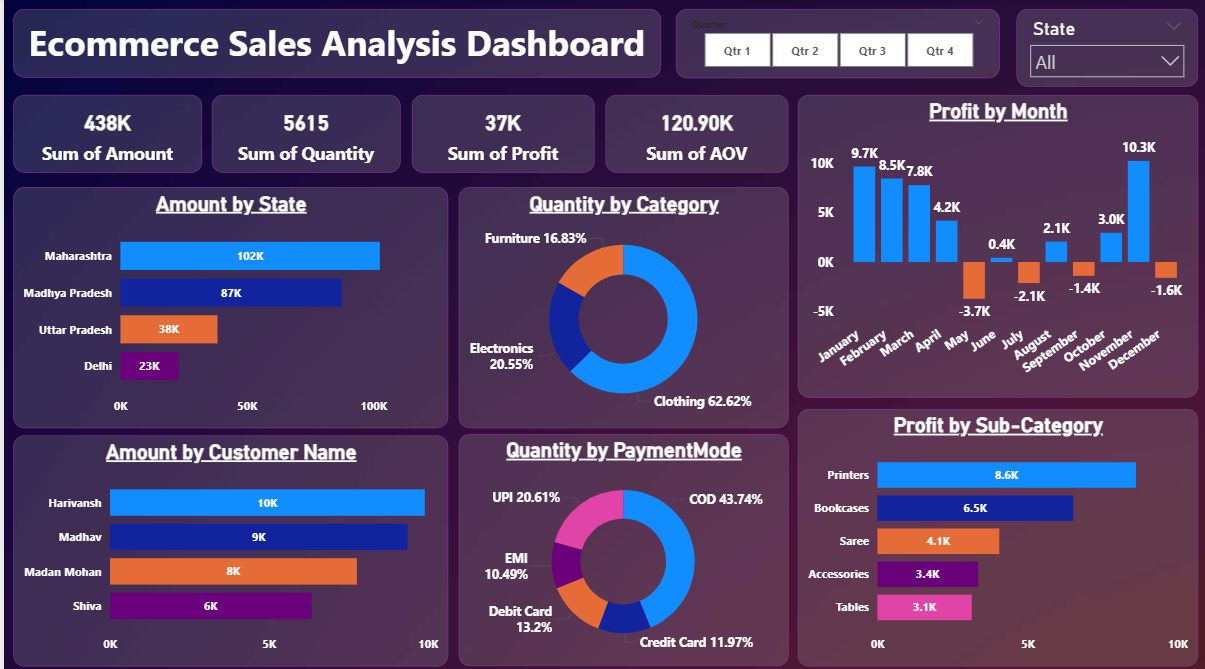

What the dashboard file says about the page in this screenshot:
{"tool":"powerbi","page":{"name":"Page 1","canvas":[1280,720],"ordinal":0},"visuals":[{"type":"textbox","box":[9.5,11.1,687.1,73.2],"z":0},{"type":"columnChart","title":" Profit by Month","fields":{"Category":["Orders.Order Date.Variation.Date Hierarchy.Month"],"Y":["Sum(Details.Profit)"]},"box":[843,103.4,424.7,321.3],"z":1000},{"type":"barChart","title":" Profit by Sub-Category ","fields":{"Category":["Details.Sub-Category"],"Y":["Sum(Details.Profit)"],"Series":["Details.Sub-Category"]},"box":[843,435.8,424.7,273.6],"z":2000},{"type":"donutChart","title":" Quantity by Category","fields":{"Series":["Details.Category"],"Y":["Sum(Details.Quantity)"]},"box":[482,200.4,349.9,256.1],"z":3000},{"type":"donutChart","title":" Quantity by PaymentMode","fields":{"Y":["Sum(Details.Quantity)"],"Series":["Details.PaymentMode"]},"box":[482,462.9,349.9,246.5],"z":4000},{"type":"card","fields":{"Values":["Sum(Details.Amount)"]},"box":[9.5,103.4,200.4,82.7],"z":5000},{"type":"card","fields":{"Values":["Sum(Details.Quantity)"]},"box":[221.1,103.4,200.4,82.7],"z":6000},{"type":"card","fields":{"Values":["Sum(Details.Profit)"]},"box":[432.6,103.4,194.1,82.7],"z":7000},{"type":"card","fields":{"Values":["Sum(Details.AOV)"]},"box":[637.8,103.4,194.1,82.7],"z":8000},{"type":"barChart","title":" Amount by State ","fields":{"Category":["Orders.State"],"Y":["Sum(Details.Amount)"],"Series":["Orders.State"]},"box":[9.5,200.4,461.3,256.1],"z":9000},{"type":"barChart","title":" Amount by Customer Name ","fields":{"Y":["Sum(Details.Amount)"],"Category":["Orders.CustomerName"],"Series":["Orders.CustomerName"]},"box":[9.5,464.5,461.3,245],"z":10000},{"type":"slicer","fields":{"Values":["Orders.Order Date.Variation.Date Hierarchy.Quarter"]},"box":[712.4,11.3,343.9,73.7],"z":11000},{"type":"slicer","fields":{"Values":["Orders.State"]},"box":[1075.3,11.1,192.5,82.7],"z":12000}]}

Visuals, with their boxes in screenshot pixels (x1, y1, x2, y2), scaled from the page's 1280x720 canvas onto the 1205x669 screenshot:
textbox: {"x1": 9, "y1": 10, "x2": 656, "y2": 78}
" Profit by Month" columnChart: {"x1": 794, "y1": 96, "x2": 1193, "y2": 395}
" Profit by Sub-Category " barChart: {"x1": 794, "y1": 405, "x2": 1193, "y2": 659}
" Quantity by Category" donutChart: {"x1": 454, "y1": 186, "x2": 783, "y2": 424}
" Quantity by PaymentMode" donutChart: {"x1": 454, "y1": 430, "x2": 783, "y2": 659}
card - Sum(Details.Amount): {"x1": 9, "y1": 96, "x2": 198, "y2": 173}
card - Sum(Details.Quantity): {"x1": 208, "y1": 96, "x2": 397, "y2": 173}
card - Sum(Details.Profit): {"x1": 407, "y1": 96, "x2": 590, "y2": 173}
card - Sum(Details.AOV): {"x1": 600, "y1": 96, "x2": 783, "y2": 173}
" Amount by State " barChart: {"x1": 9, "y1": 186, "x2": 443, "y2": 424}
" Amount by Customer Name " barChart: {"x1": 9, "y1": 432, "x2": 443, "y2": 659}
slicer - Orders.Order Date.Variation.Date Hierarchy.Quarter: {"x1": 671, "y1": 10, "x2": 994, "y2": 79}
slicer - Orders.State: {"x1": 1012, "y1": 10, "x2": 1194, "y2": 87}
